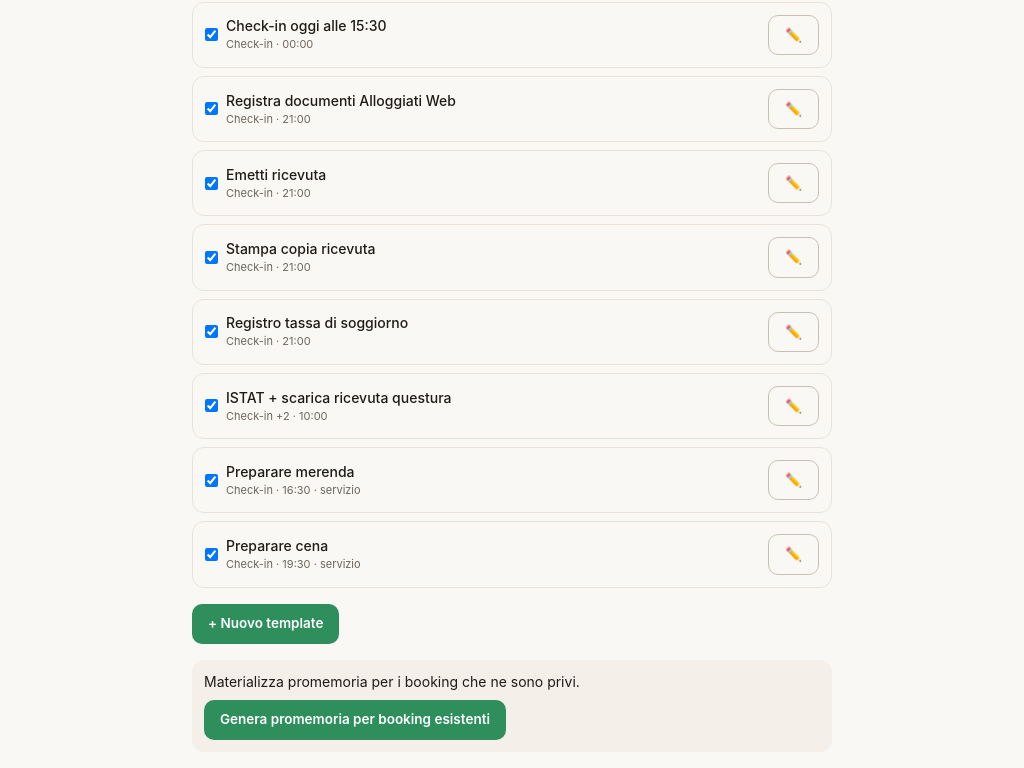
Test: TemplatesPage › opens new-template modal with empty title on "+ Nuovo template"
(page scrolled)
Click the button "+ Nuovo template": (266, 624) [192, 604, 339, 644]
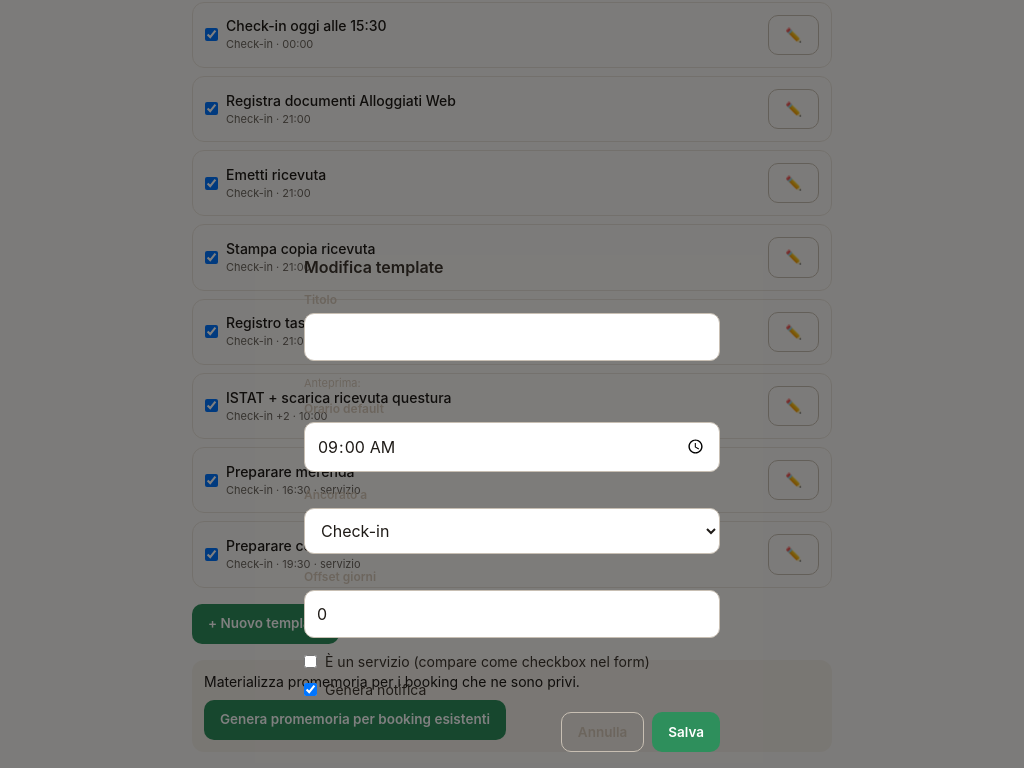
Now the heading "Modifica template" is shown, box [304, 257, 444, 277]
Now the field labelled "Titolo" is shown, box [304, 313, 720, 361]
